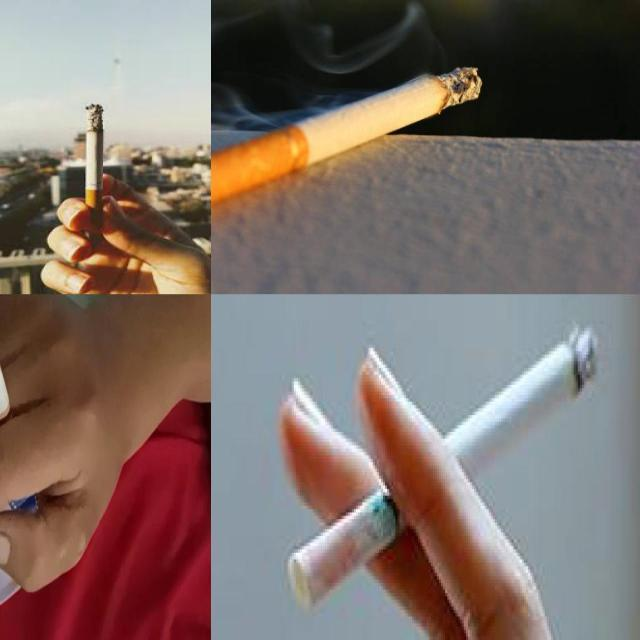smoking: (281, 321, 601, 614), (211, 65, 483, 206), (0, 311, 18, 450), (85, 102, 104, 228)
